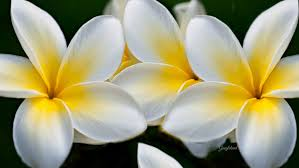flower: (4, 3, 154, 163), (179, 10, 299, 151), (119, 6, 202, 153)
